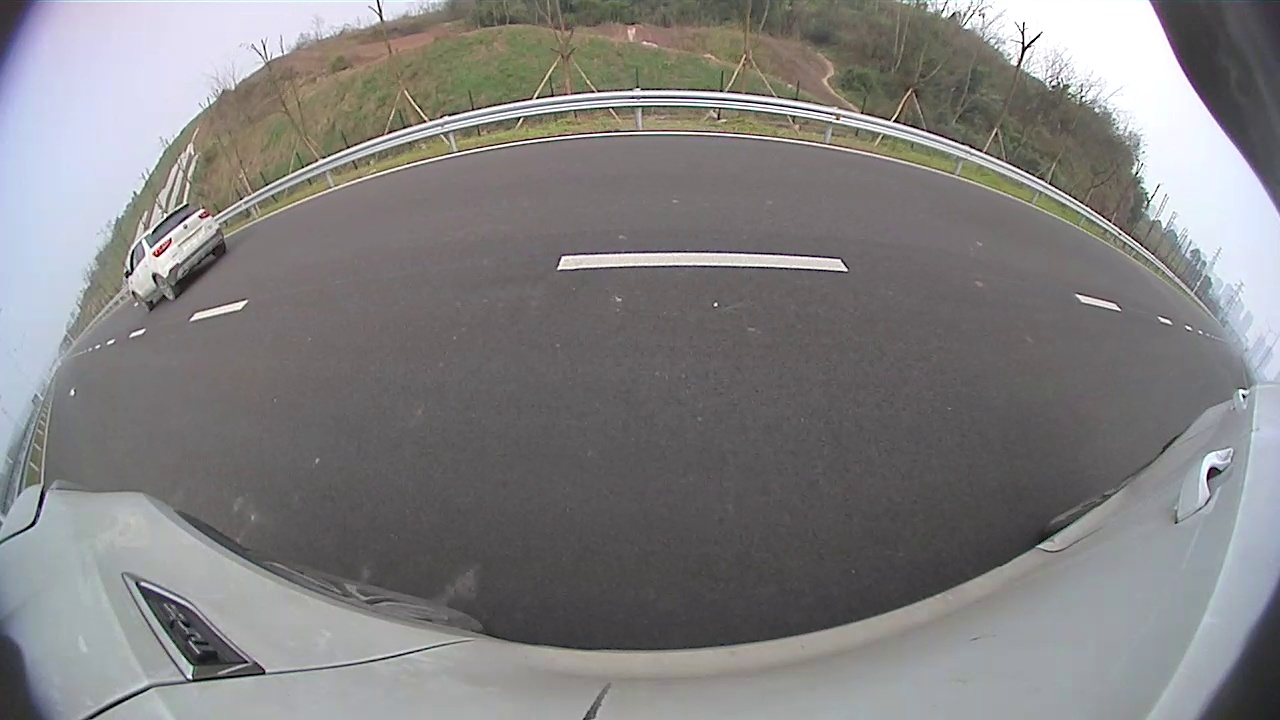car: (124, 202, 228, 312)
rear: (152, 274, 178, 302)
